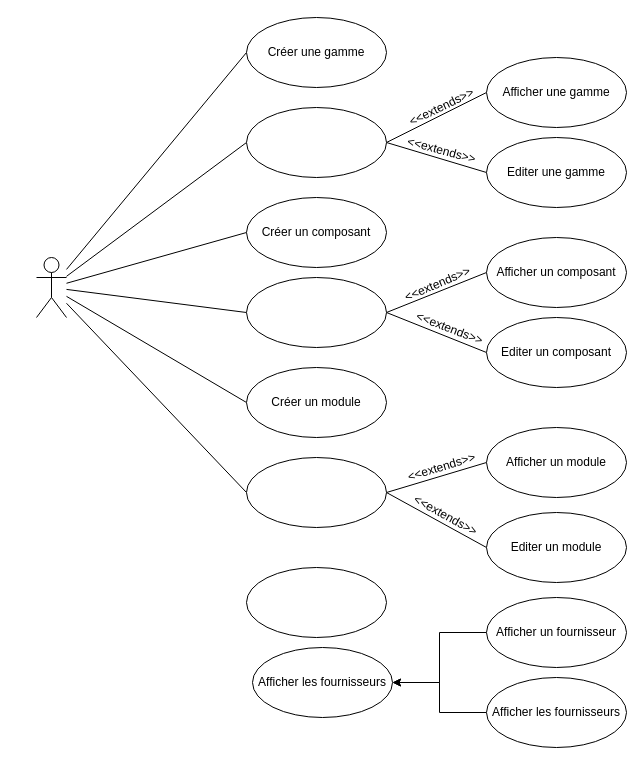
Some shapes in this 644 by 765 pixel diagram are drawn without their labels. Here are the shapes that lost their labels. From the top down, the box of each, then its label:
(246, 106, 386, 178): Afficher les gammes
(36, 256, 66, 318): Ingénieur BE
(246, 276, 386, 348): Afficher les composants
(246, 456, 386, 528): Afficher les modules
(246, 566, 386, 638): Ajouter un fournisseur
